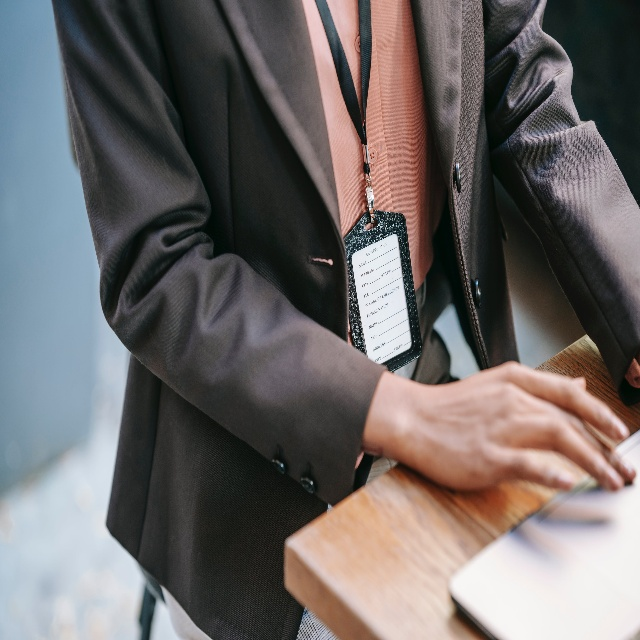Sin_guantes: (401, 360, 637, 494)
